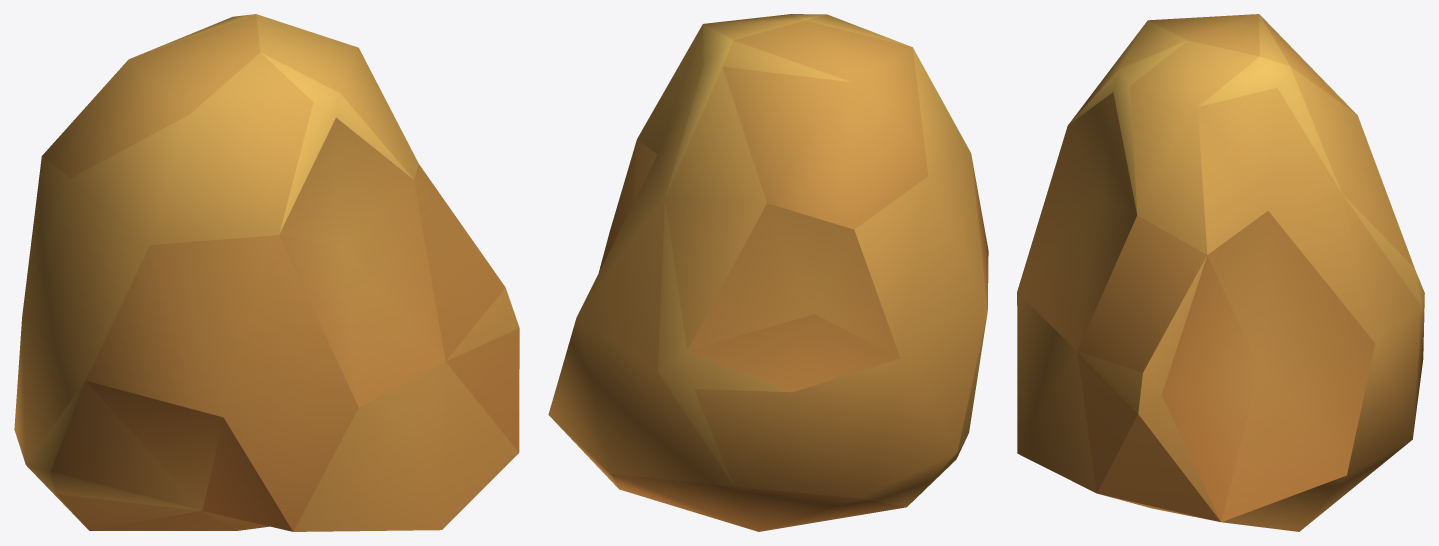
The model's file is pepite-or.glb.
The picture shows the model from 3 angles, left to right: view 1: azimuth 30°, elevation 25°; view 2: azimuth 150°, elevation 25°; view 3: azimuth 270°, elevation 25°; orthographic projection. The views are drawn at different scales.
Parts seen in each view (by area): view 1: Gold_Nugget_Large; view 2: Gold_Nugget_Large; view 3: Gold_Nugget_Large.
Boxes of the visible parts, x1,y1,x2,y2 form: Gold_Nugget_Large: (14, 14, 519, 531); Gold_Nugget_Large: (548, 14, 988, 531); Gold_Nugget_Large: (1017, 14, 1424, 531).
Size of the model in its own units: 0.4271 by 0.4656 by 0.3947.
1 material, 1 textured.
